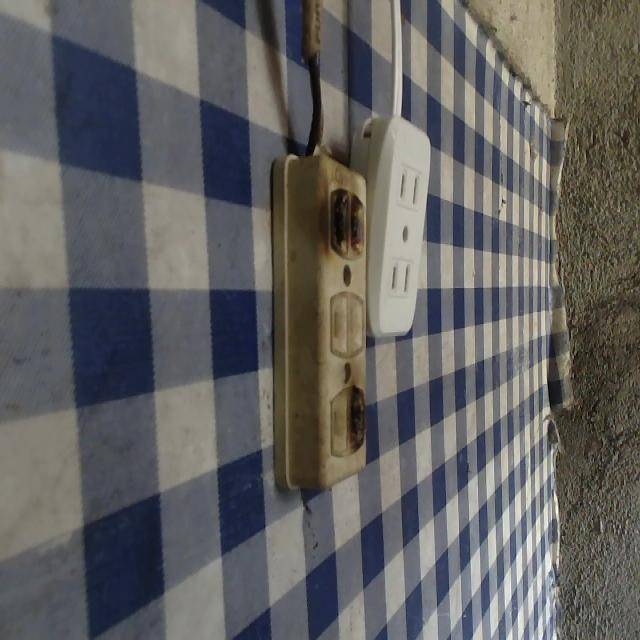-: (327, 182, 366, 258), (347, 386, 368, 454)
